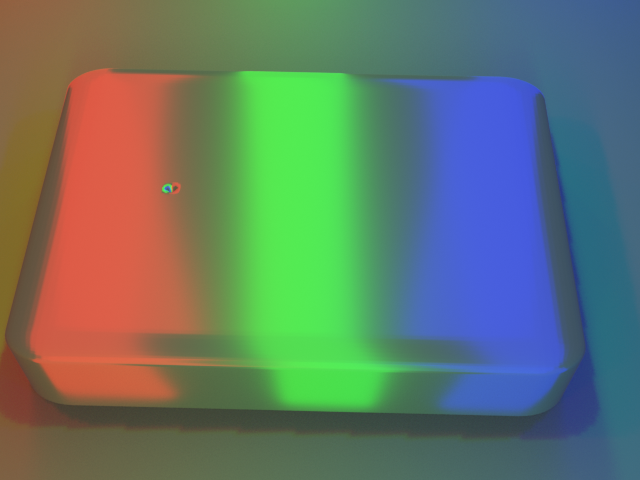dent: (135, 167, 174, 201)
